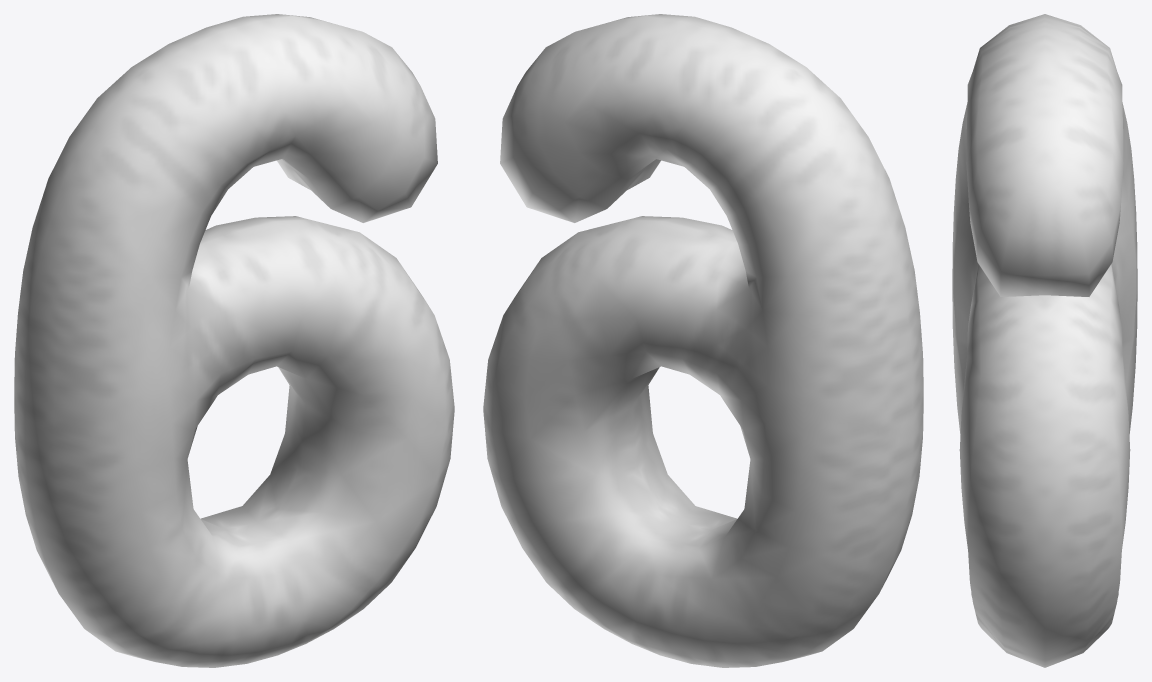
Rendered from LettersBalloon01_6.FBX.
3 views of the same model, side by side, from view 1: azimuth 30°, elevation 25°; view 2: azimuth 150°, elevation 25°; view 3: azimuth 270°, elevation 25° (orthographic). The views are drawn at different scales.
Visible parts, largest first — view 1: LettersBalloon01_6; view 2: LettersBalloon01_6; view 3: LettersBalloon01_6.
Boxes of the visible parts, left/top/right/bottom form: LettersBalloon01_6: left=14, top=14, right=454, bottom=667; LettersBalloon01_6: left=483, top=14, right=923, bottom=667; LettersBalloon01_6: left=952, top=14, right=1137, bottom=667.
Size of what is drawn, in the model's own units: 0.3419 by 0.4906 by 0.1363.
